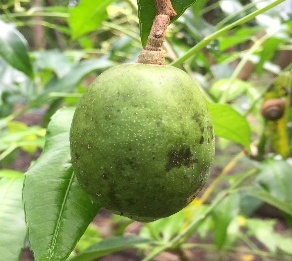Coc: (70, 61, 218, 223)
